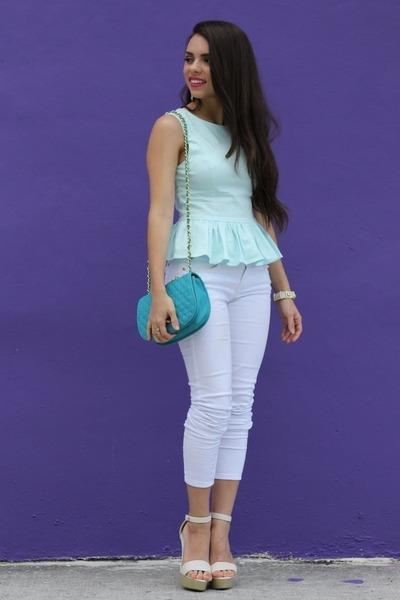bag: (137, 276, 210, 342)
pants: (165, 252, 271, 487)
shirt: (174, 108, 282, 264)
shoe: (183, 506, 236, 578)
